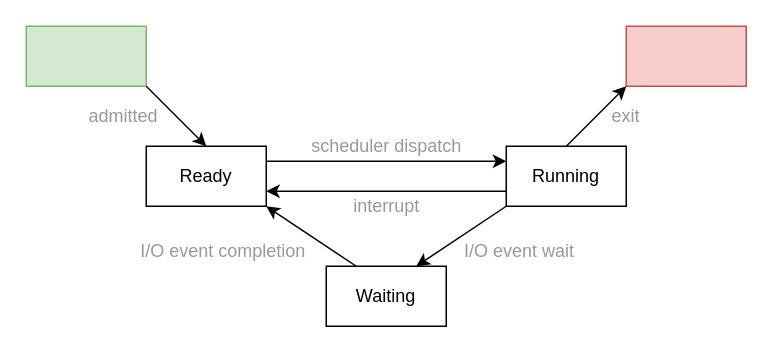
The diagram is 773 pixels wide and 353 high, and some of its shapes have lost their labels. The shapes that lost their labels are listed below. From the top down, each one's centre as x and y in pixels, then its label:
At (85,55): "New".
At (685,55): "Terminated".
